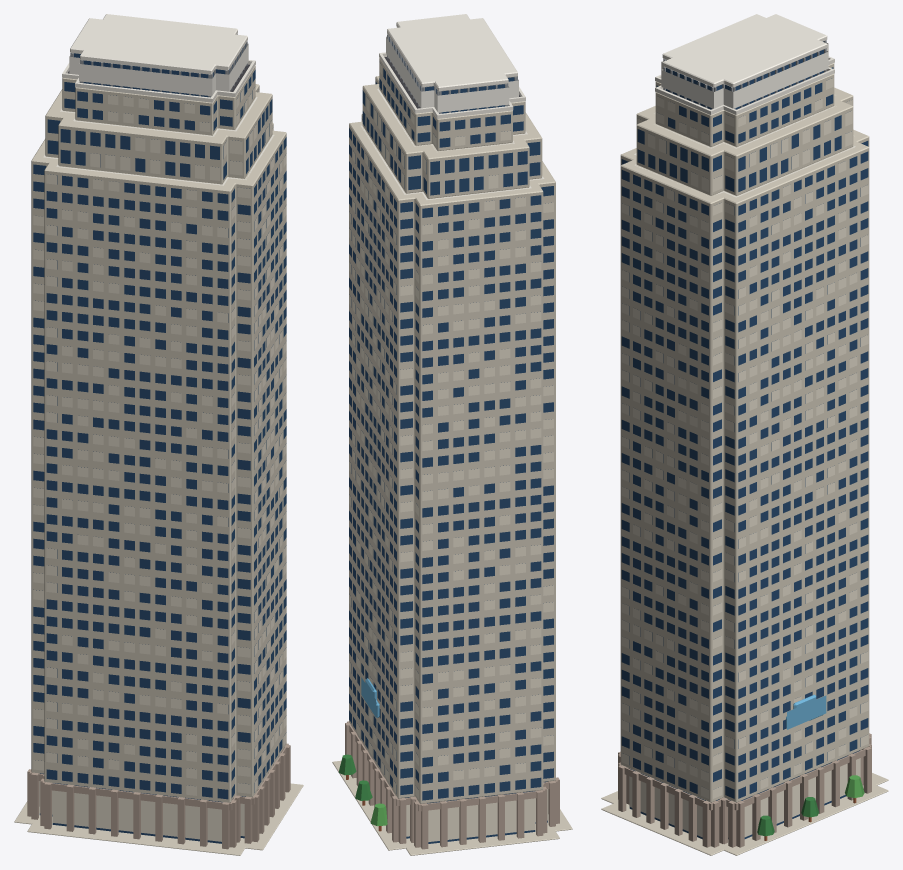
Rendered from 50-fremont.glb.
3 renders of one model, left to right at view 1: azimuth 30°, elevation 25°; view 2: azimuth 150°, elevation 25°; view 3: azimuth 270°, elevation 25°, orthographic. The views are drawn at different scales.
Visible parts, largest first — view 1: 50-fremont_body, 50-fremont_night_glow; view 2: 50-fremont_body, 50-fremont_night_glow; view 3: 50-fremont_body, 50-fremont_night_glow.
Part boxes in pixels (box(x1,y1,x2,y2)): 50-fremont_body: box(14, 14, 303, 855); 50-fremont_night_glow: box(33, 43, 286, 841); 50-fremont_body: box(332, 14, 572, 855); 50-fremont_night_glow: box(349, 36, 553, 841); 50-fremont_body: box(601, 14, 888, 855); 50-fremont_night_glow: box(621, 43, 868, 837).
Size of the model in its own units: 63.88 by 183 by 63.85.
